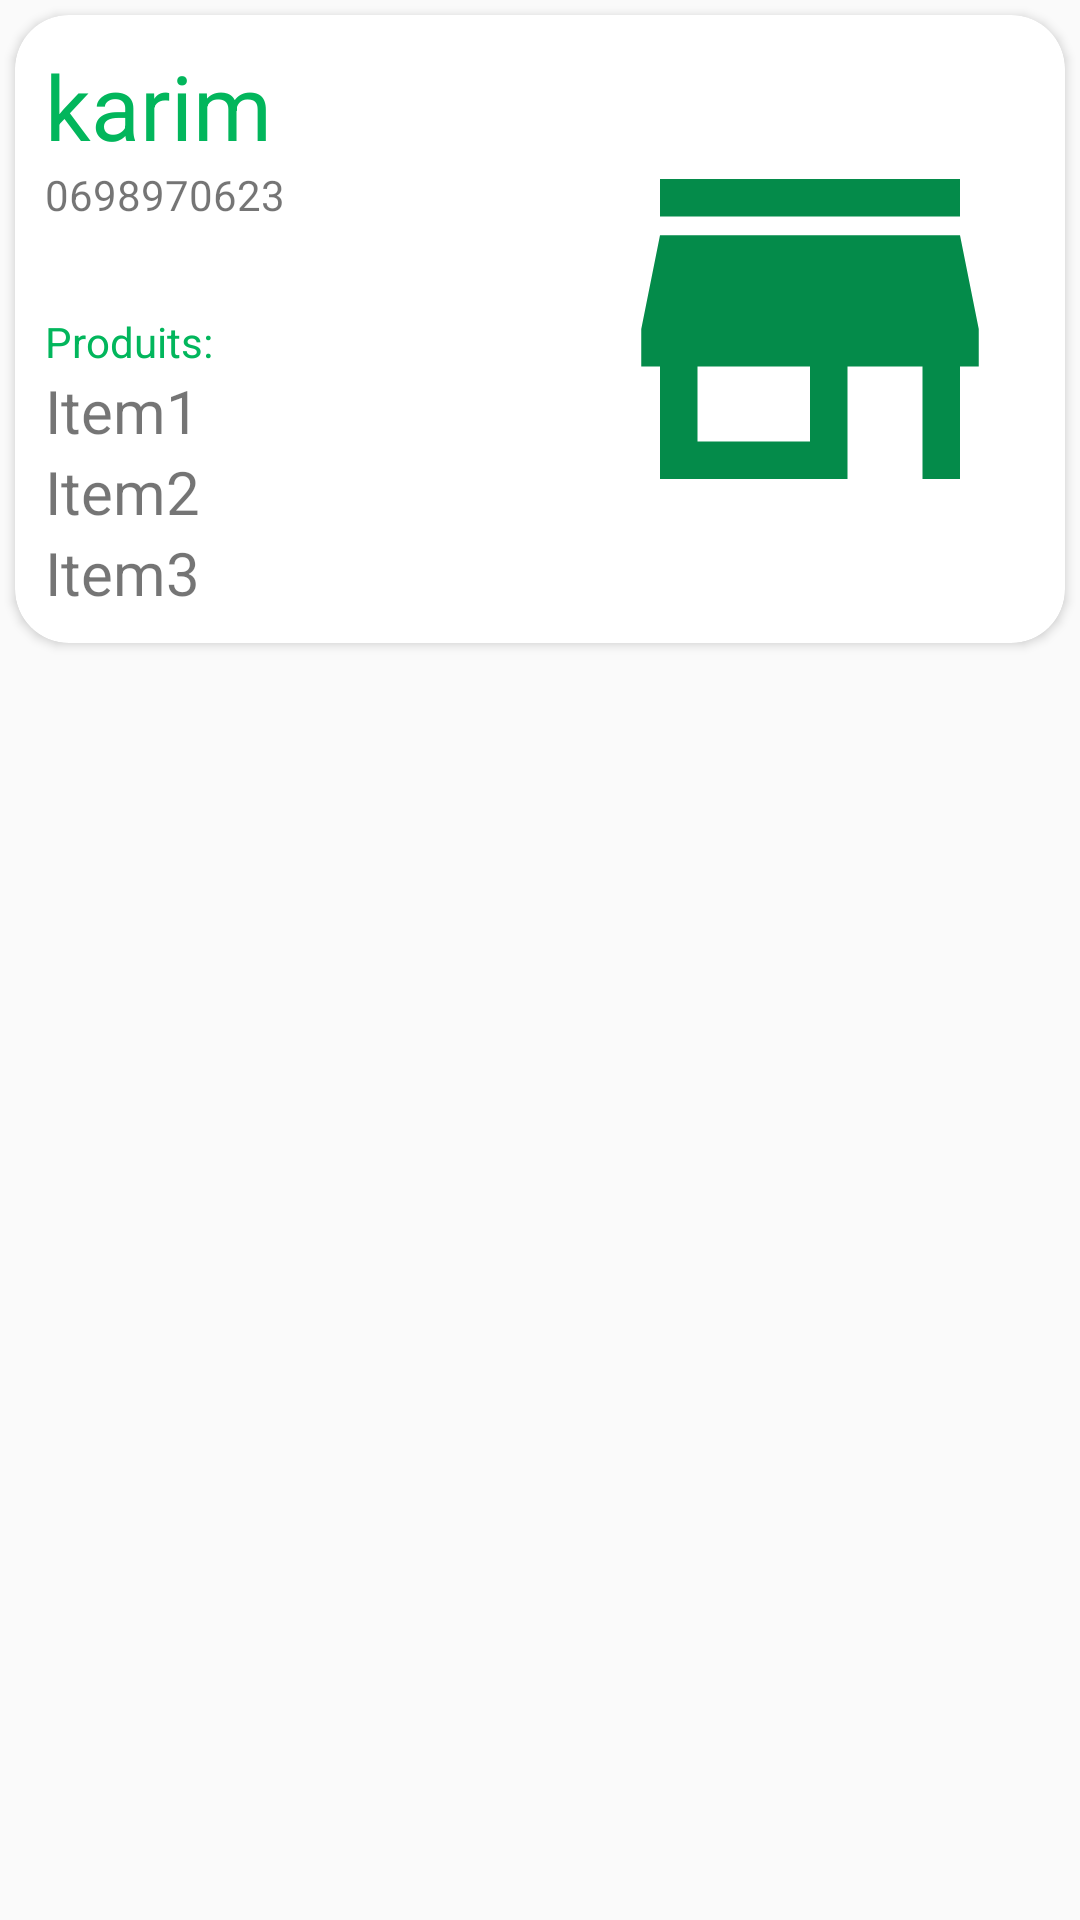

Icons on this 1080w x 1920h Android screen, each with the point to tap as [x,y]:
drw magasin: [810,329]
